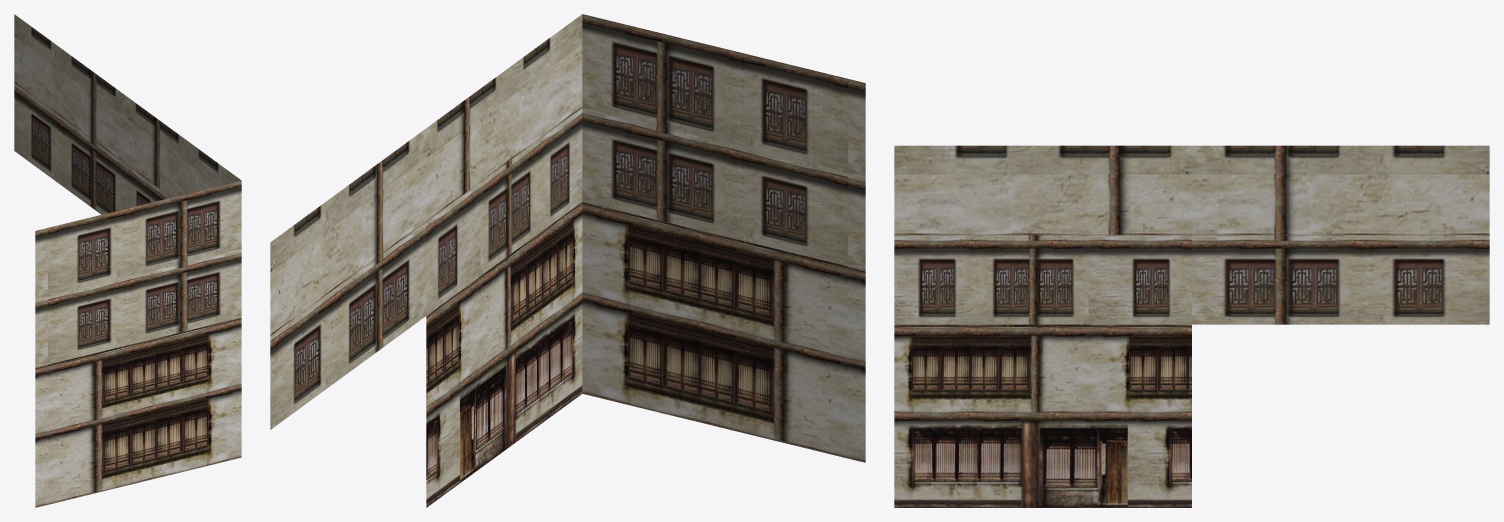
Rendered from Roomb.obj.
3 views of the same model, side by side, from view 1: azimuth 30°, elevation 25°; view 2: azimuth 150°, elevation 25°; view 3: azimuth 270°, elevation 25° (orthographic). The views are drawn at different scales.
Parts seen in each view (by area): view 1: Roomb; view 2: Roomb; view 3: Roomb.
Part boxes in pixels (x1,y1,x2,y2): Roomb: (14,14,241,507); Roomb: (270,14,865,507); Roomb: (894,145,1489,507).
Size of the model in its own units: 211 by 270 by 402.
